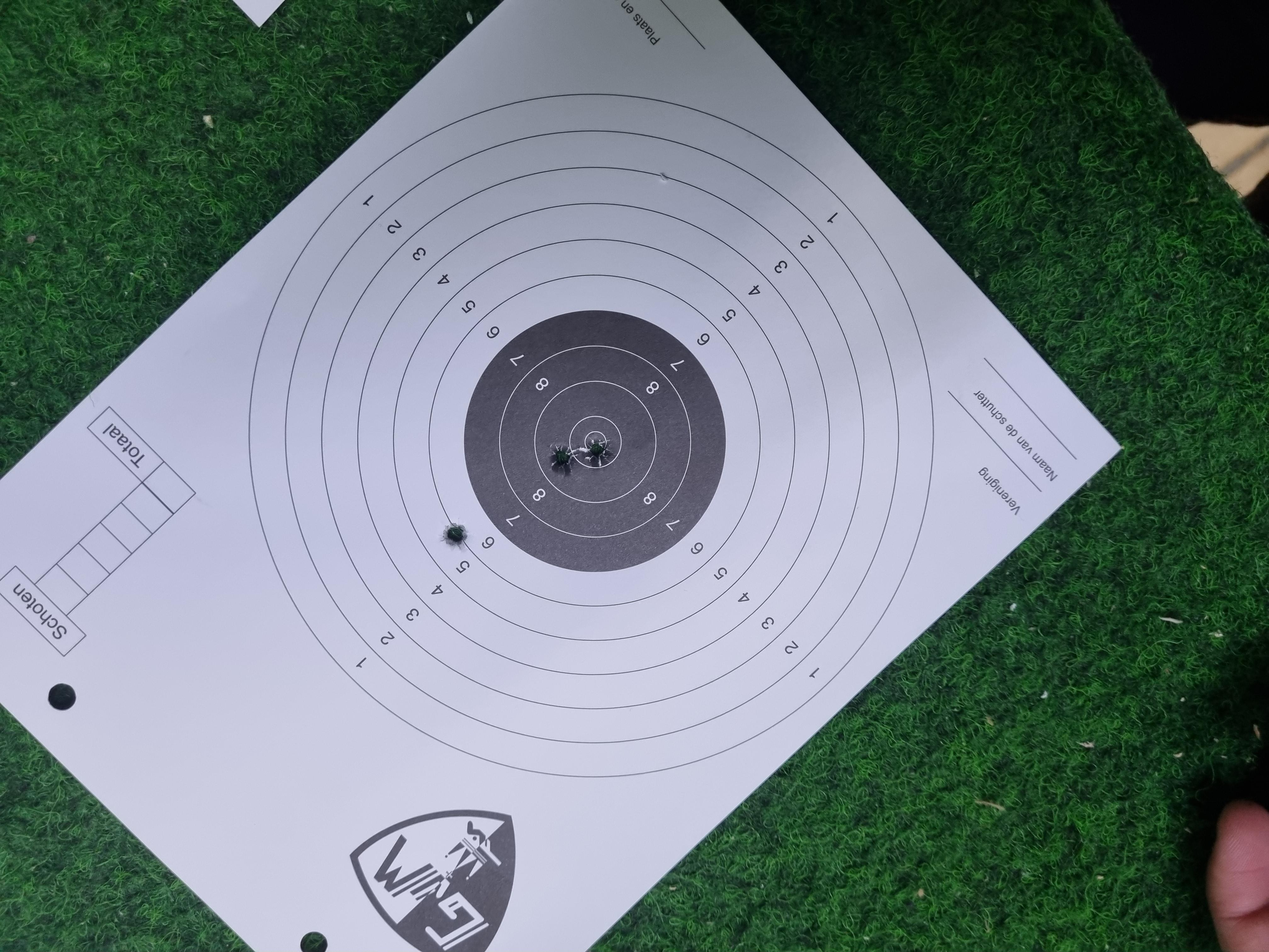hole: (631, 409, 678, 436), (648, 434, 686, 461), (535, 330, 572, 352)
